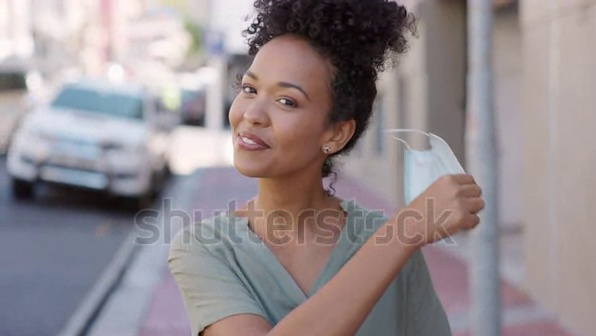No Mask: (214, 115, 314, 182)
